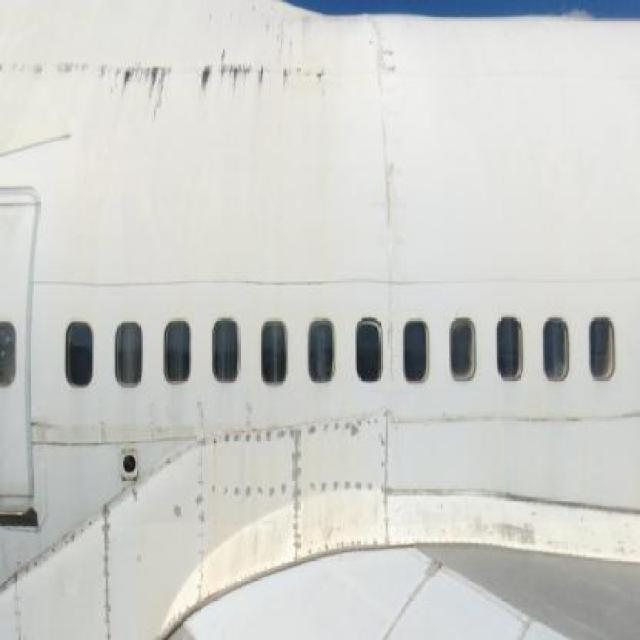Missing-Rivet: (0, 514, 88, 614), (88, 495, 117, 640)
Scartch: (11, 46, 343, 126), (186, 417, 397, 505), (478, 517, 544, 551)
